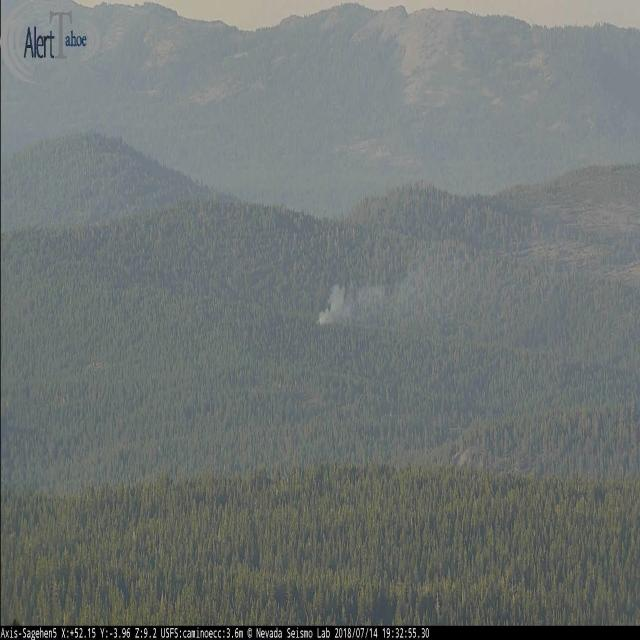smoke: (317, 278, 381, 324)
